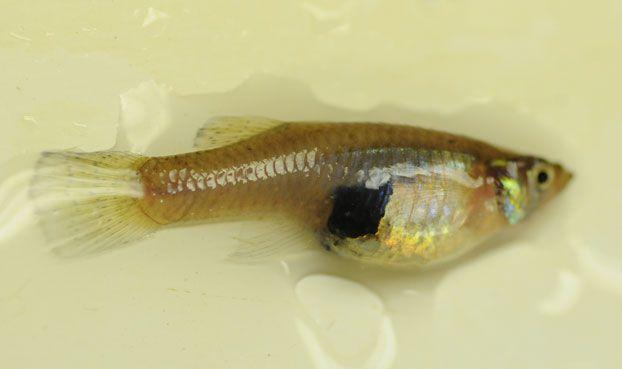Mosquito Fish: (29, 117, 575, 283)
